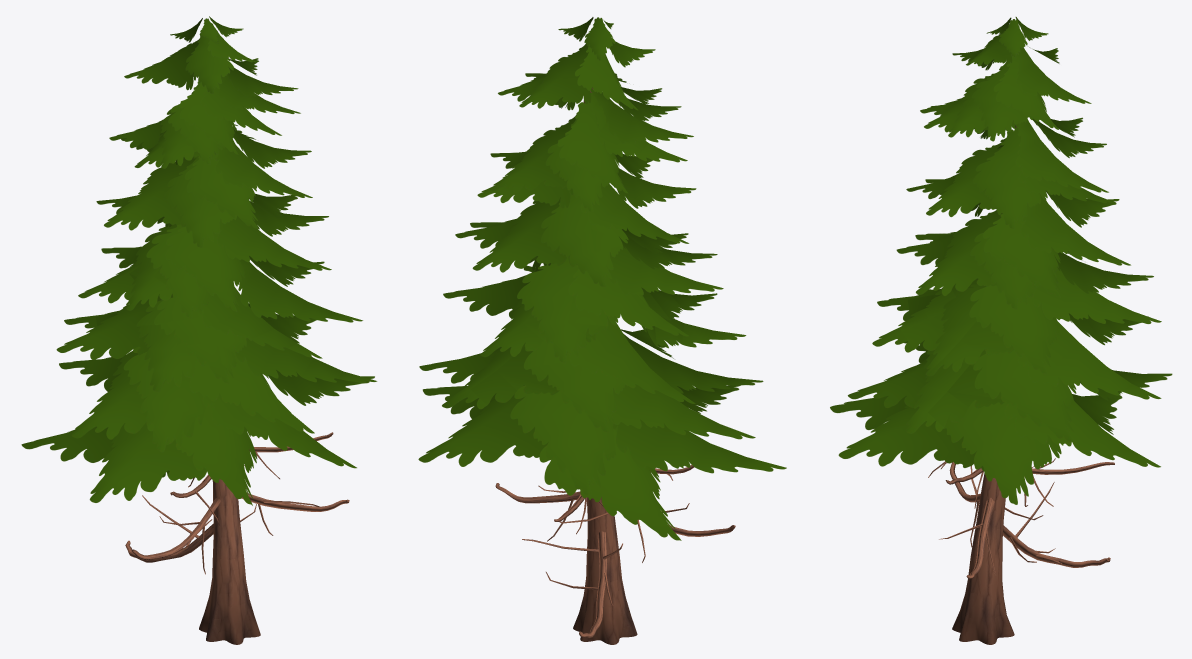
File: pine_a.glb
3 views of the same model, side by side, from view 1: azimuth 30°, elevation 25°; view 2: azimuth 150°, elevation 25°; view 3: azimuth 270°, elevation 25° (orthographic). The views are drawn at different scales.
Parts seen in each view (by area): view 1: Pine_4; view 2: Pine_4; view 3: Pine_4.
Part boxes in pixels (x1,y1,x2,y2): Pine_4: [21, 16, 377, 644]; Pine_4: [418, 17, 786, 644]; Pine_4: [830, 17, 1172, 644].
Size of the model in its own units: 5.8 by 10.24 by 5.37.
2 materials, 2 textured.
